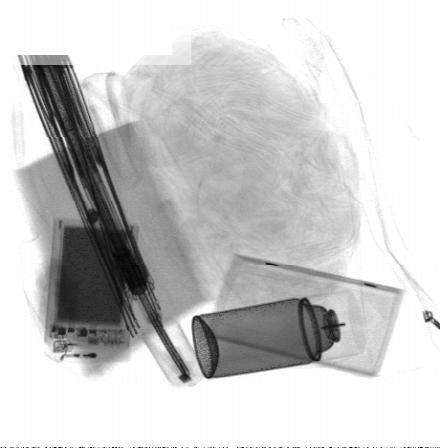Lighter: (52, 338, 129, 362)
Powerbank: (191, 291, 367, 379), (45, 220, 141, 350)
